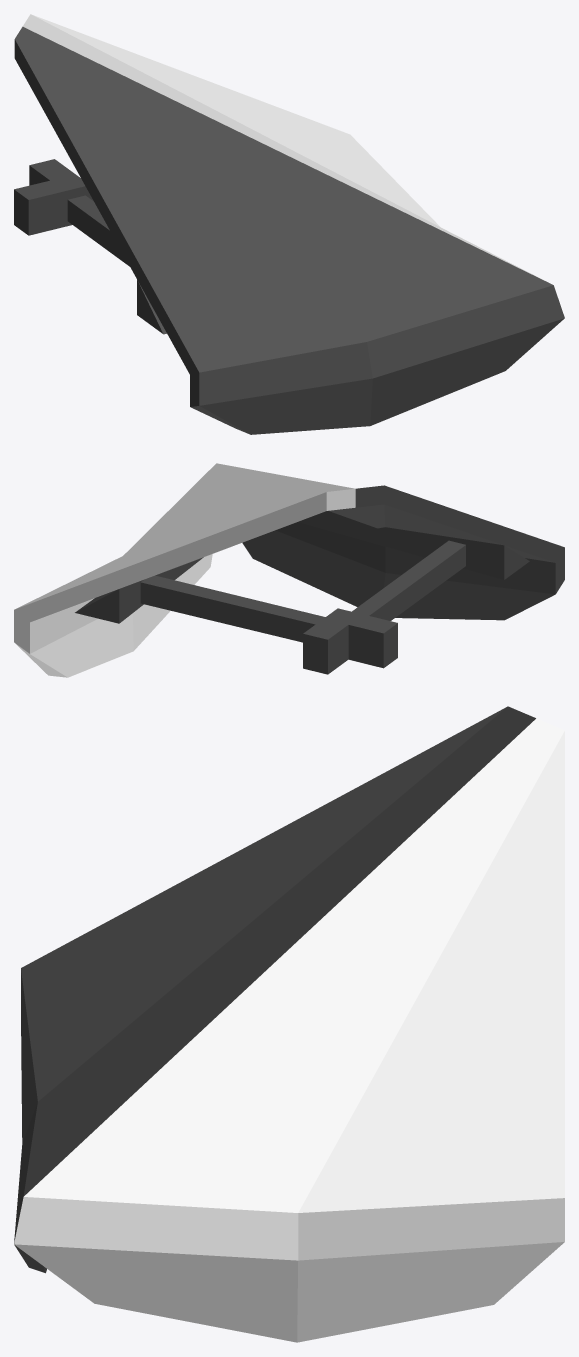
File: Awning_02.fbx
The picture shows the model from 3 angles, top to bottom: view 1: azimuth 30°, elevation 25°; view 2: azimuth 150°, elevation 25°; view 3: azimuth 270°, elevation 25°; orthographic projection. The views are drawn at different scales.
Visible parts, largest first — view 1: SM_Bld_Awning_Corner_01; view 2: SM_Bld_Awning_Corner_01; view 3: SM_Bld_Awning_Corner_01.
Boxes of the visible parts, left/top/right/bottom form: SM_Bld_Awning_Corner_01: left=14, top=14, right=564, bottom=434; SM_Bld_Awning_Corner_01: left=14, top=463, right=564, bottom=677; SM_Bld_Awning_Corner_01: left=14, top=706, right=564, bottom=1342.
Bounding box in the file's own units: 106 × 86.89 × 106.
